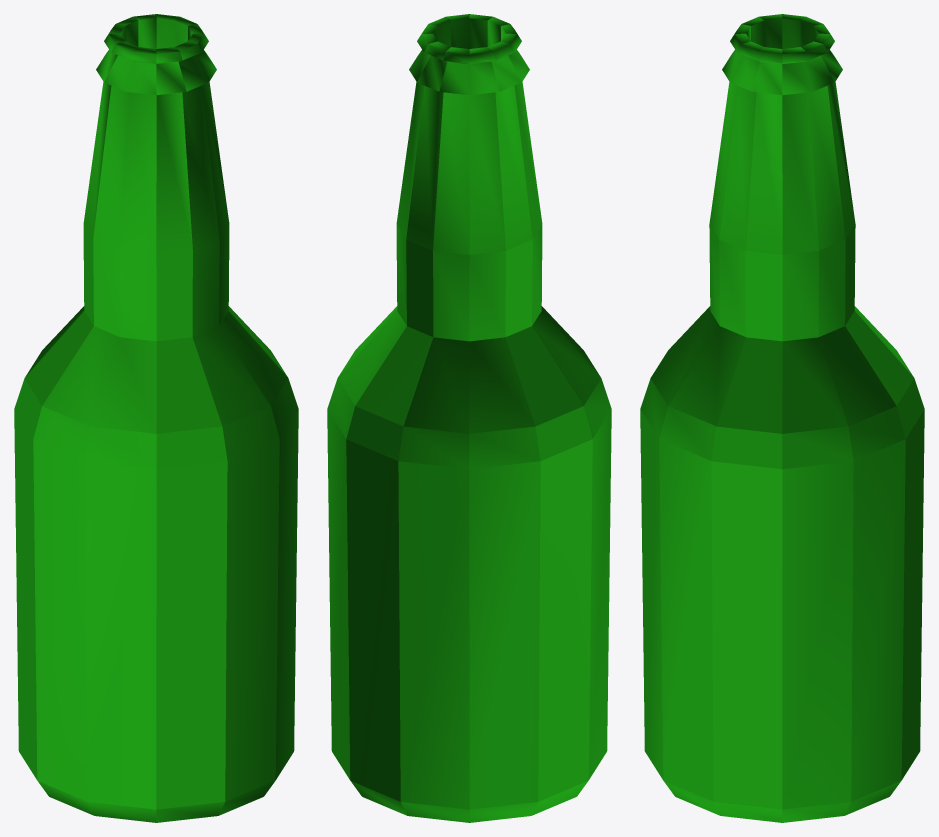
Rendered from Beer Bottle.fbx.
The picture shows the model from 3 angles, left to right: view 1: azimuth 30°, elevation 25°; view 2: azimuth 150°, elevation 25°; view 3: azimuth 270°, elevation 25°; orthographic projection.
Visible parts, largest first — view 1: Node 0; view 2: Node 0; view 3: Node 0.
Boxes of the visible parts, x1=… form: Node 0: x1=14, y1=14, x2=298, y2=822; Node 0: x1=327, y1=14, x2=611, y2=822; Node 0: x1=640, y1=14, x2=924, y2=822.
Bounding box in the file's own units: 0.1748 × 0.4994 × 0.1748.
